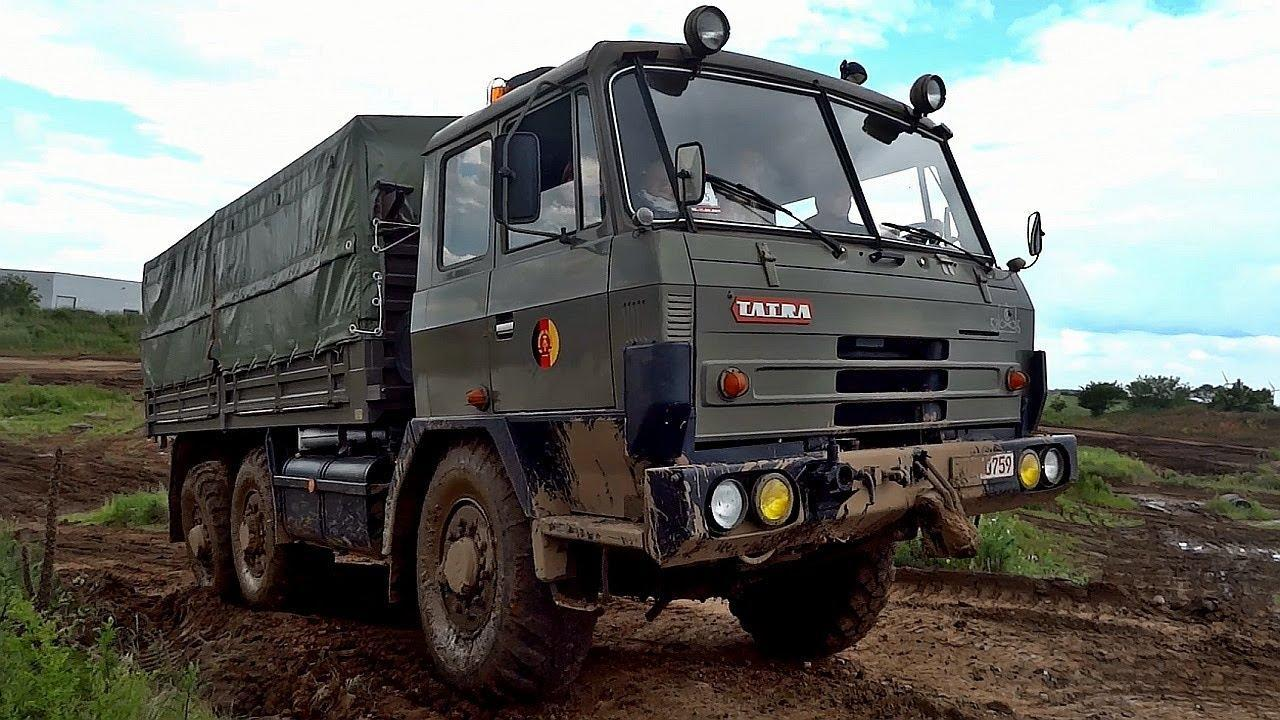truck: (127, 27, 1139, 650)
